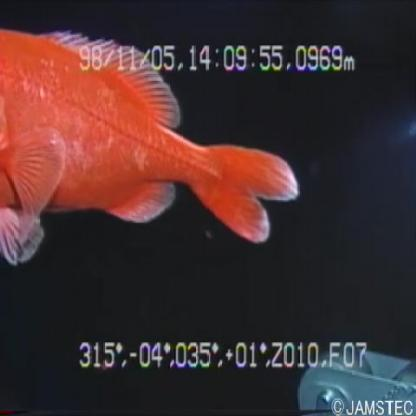Bio: (1, 26, 302, 268)
Rov: (294, 341, 413, 416)
